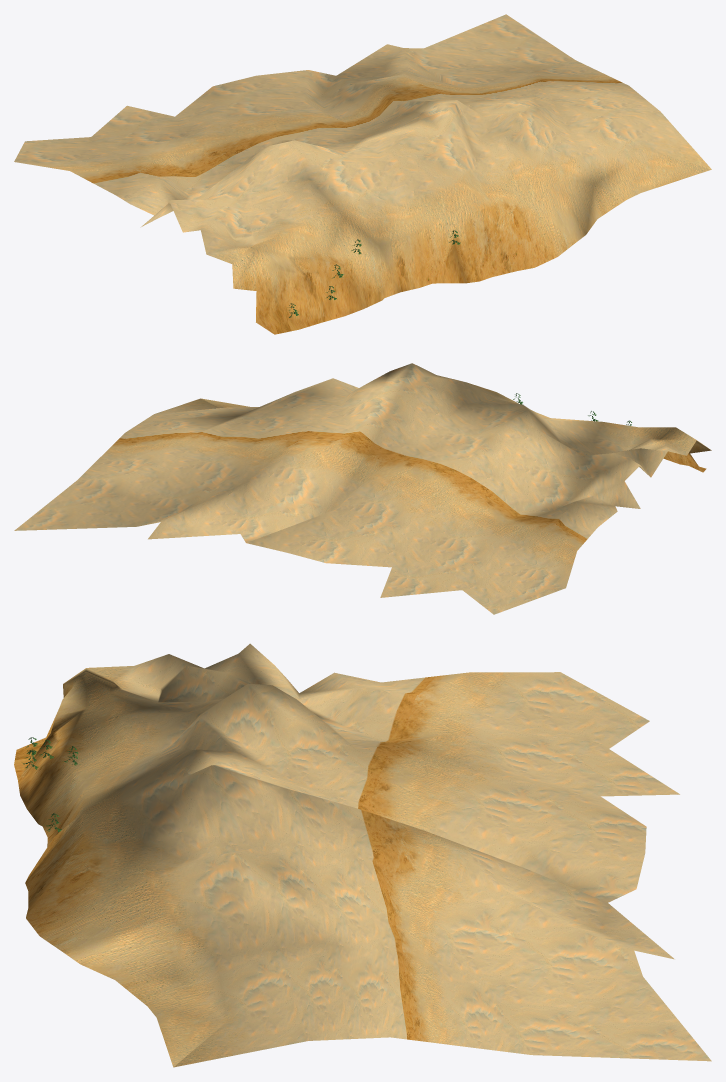
The model's file is snow_island_13_d.fbx.
3 renders of one model, top to bottom at view 1: azimuth 30°, elevation 25°; view 2: azimuth 150°, elevation 25°; view 3: azimuth 270°, elevation 25°, orthographic. The views are drawn at different scales.
Parts seen in each view (by area): view 1: snow_island_13_d; view 2: snow_island_13_d; view 3: snow_island_13_d.
Part boxes in pixels (x1,y1,x2,y2): snow_island_13_d: (14,14,711,334); snow_island_13_d: (14,363,711,614); snow_island_13_d: (14,643,711,1067).
Size of the model in its own units: 1.99 by 0.3997 by 1.67.
